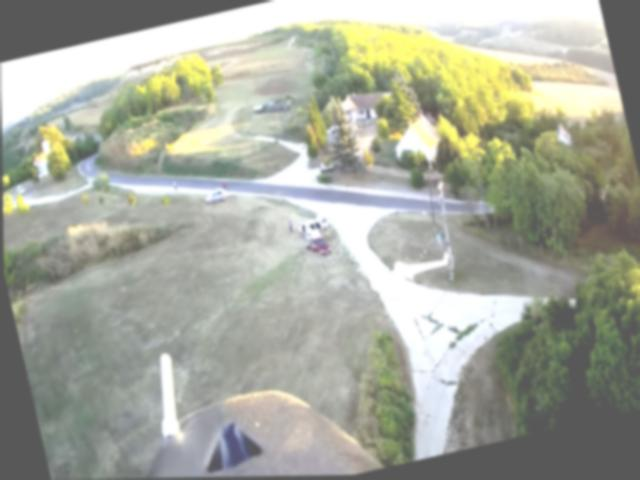plane: (365, 251, 453, 296)
